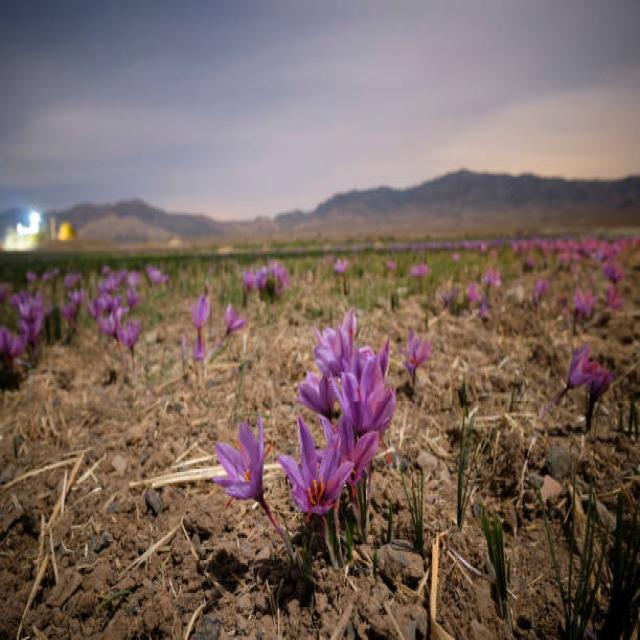saffron open: (279, 417, 354, 516)
